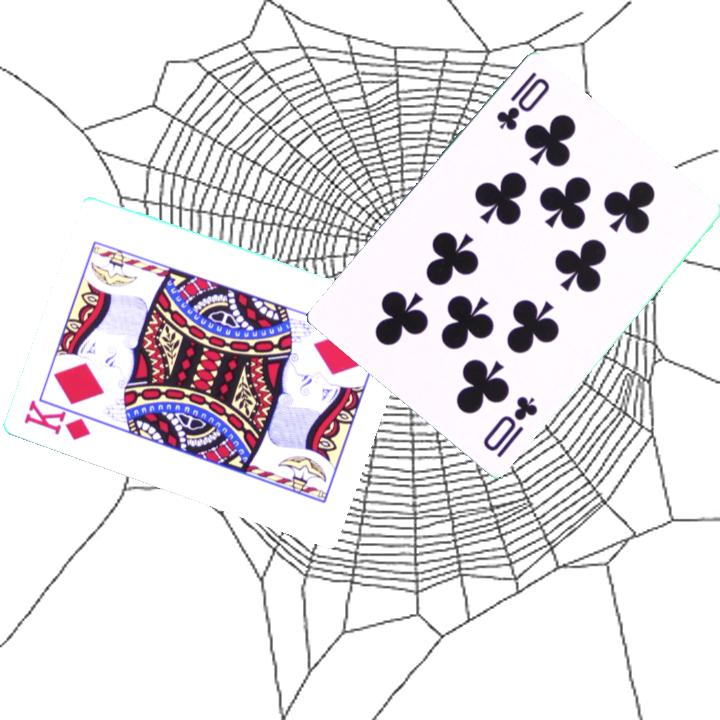10c: (479, 392, 541, 462), (492, 68, 553, 135)
Kd: (20, 396, 94, 443)
